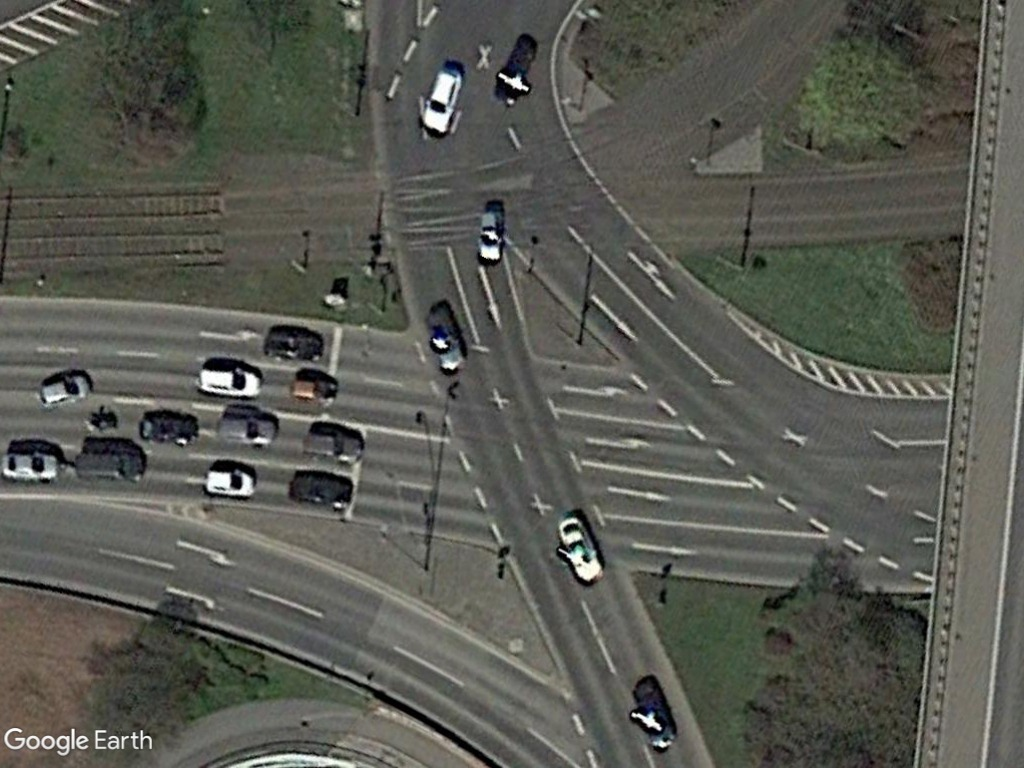car: (416, 61, 464, 138), (192, 360, 266, 403), (32, 368, 93, 411), (212, 411, 280, 448), (198, 463, 263, 500), (0, 449, 65, 484)
